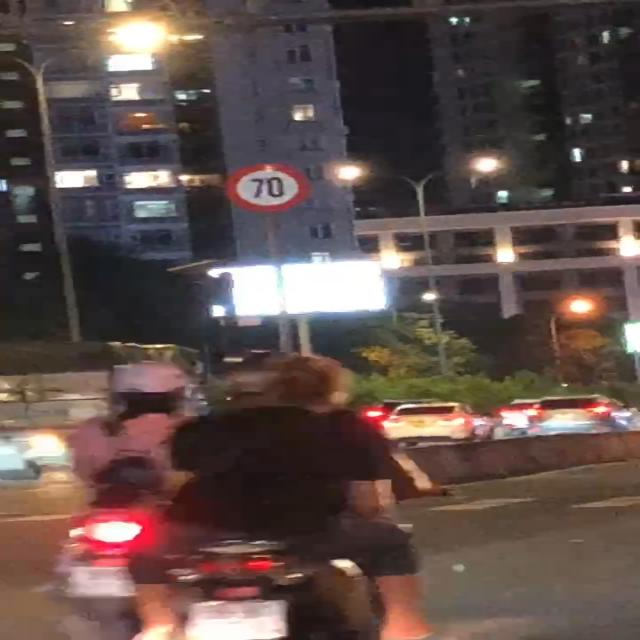Bien bao toc do toi da cho phep: (214, 158, 324, 214)
